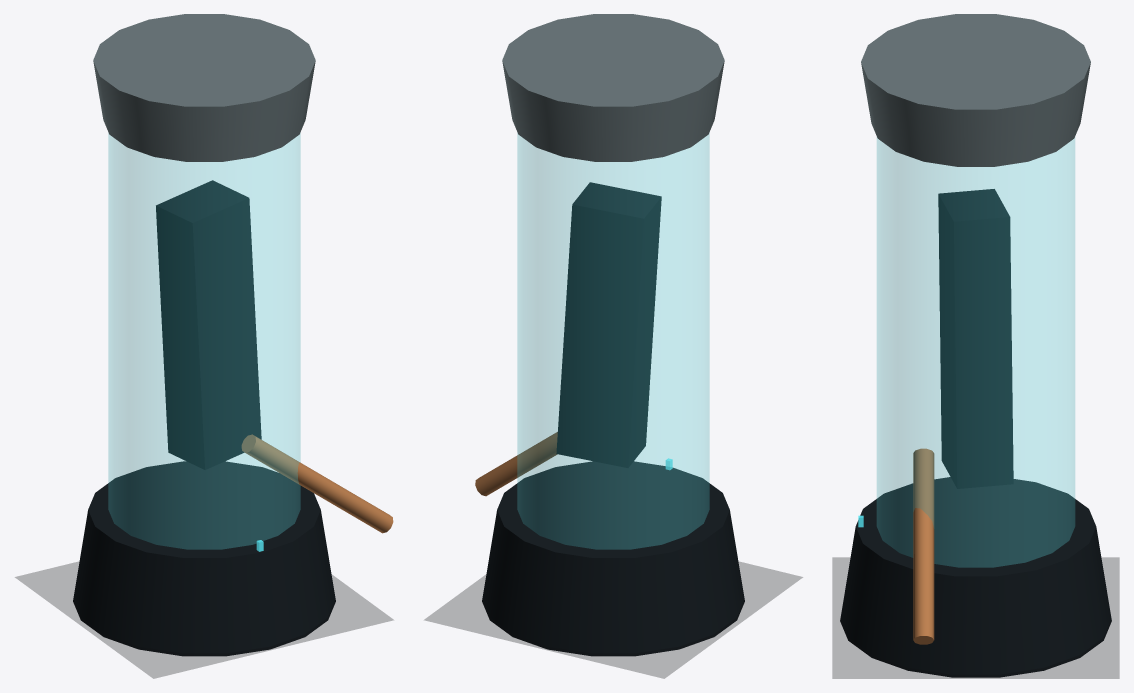
Rendered from hp_room_cyber_cryo_column.glb.
3 views of the same model, side by side, from view 1: azimuth 30°, elevation 25°; view 2: azimuth 150°, elevation 25°; view 3: azimuth 270°, elevation 25° (orthographic). The views are drawn at different scales.
Parts seen in each view (by area): view 1: cryo_glass, cryo_base, cryo_cap, specimen_mass, contact_shadow, feed_hose; view 2: cryo_glass, cryo_base, cryo_cap, specimen_mass, contact_shadow, feed_hose; view 3: cryo_glass, cryo_base, cryo_cap, specimen_mass, contact_shadow, feed_hose.
Boxes of the visible parts, x1=… form: cryo_glass: x1=108, y1=133, x2=300, y2=549; cryo_base: x1=73, y1=461, x2=335, y2=656; cryo_cap: x1=93, y1=14, x2=315, y2=161; specimen_mass: x1=156, y1=180, x2=261, y2=469; contact_shadow: x1=15, y1=562, x2=393, y2=678; feed_hose: x1=241, y1=434, x2=393, y2=533; cryo_glass: x1=517, y1=133, x2=709, y2=549; cryo_base: x1=482, y1=461, x2=744, y2=656; cryo_cap: x1=502, y1=14, x2=724, y2=161; specimen_mass: x1=556, y1=182, x2=661, y2=467; contact_shadow: x1=424, y1=562, x2=802, y2=678; feed_hose: x1=475, y1=431, x2=557, y2=496; cryo_glass: x1=877, y1=138, x2=1074, y2=567; cryo_base: x1=840, y1=477, x2=1111, y2=677; cryo_cap: x1=861, y1=14, x2=1090, y2=166; specimen_mass: x1=938, y1=189, x2=1013, y2=488; contact_shadow: x1=832, y1=557, x2=1119, y2=678; feed_hose: x1=913, y1=448, x2=934, y2=644.
Bounding box in the file's own units: 1.29 × 2.36 × 1.1.
